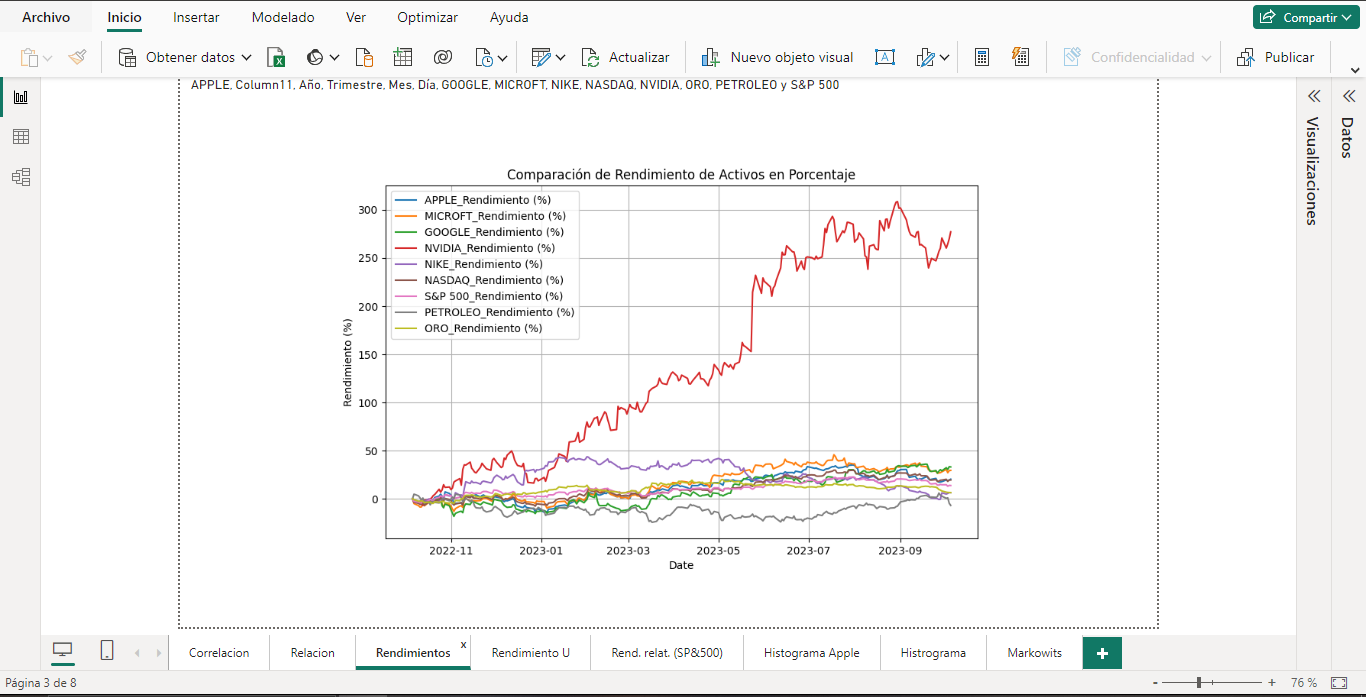

Layout of this report page (visuals, bound fields, positions):
{"tool":"powerbi","page":{"name":"Rendimientos","canvas":[1280,720],"ordinal":2},"visuals":[{"type":"pythonVisual","fields":{"Values":["Hoja1.APPLE","Hoja1.Column11","Hoja1.Date.Variación.Jerarquía de fechas.Año","Hoja1.Date.Variación.Jerarquía de fechas.Trimestre","Hoja1.Date.Variación.Jerarquía de fechas.Mes","Hoja1.Date.Variación.Jerarquía de fechas.Día","Hoja1.GOOGLE","Hoja1.MICROFT","Hoja1.NIKE","Hoja1.NASDAQ","Hoja1.NVIDIA","Hoja1.ORO"]},"box":[8.8,0,1270.2,720],"z":0}]}

Visuals, with their boxes on the page's 1280x720 design canvas (x1, y1, x2, y2). These are canvas units, not pixel positions in the 1366x697 screenshot, which may show the page scaled, cropped or inside an application window:
pythonVisual - Hoja1.APPLE x Hoja1.Column11: pyautogui.locateOnScreen(9, 0, 1279, 720)
